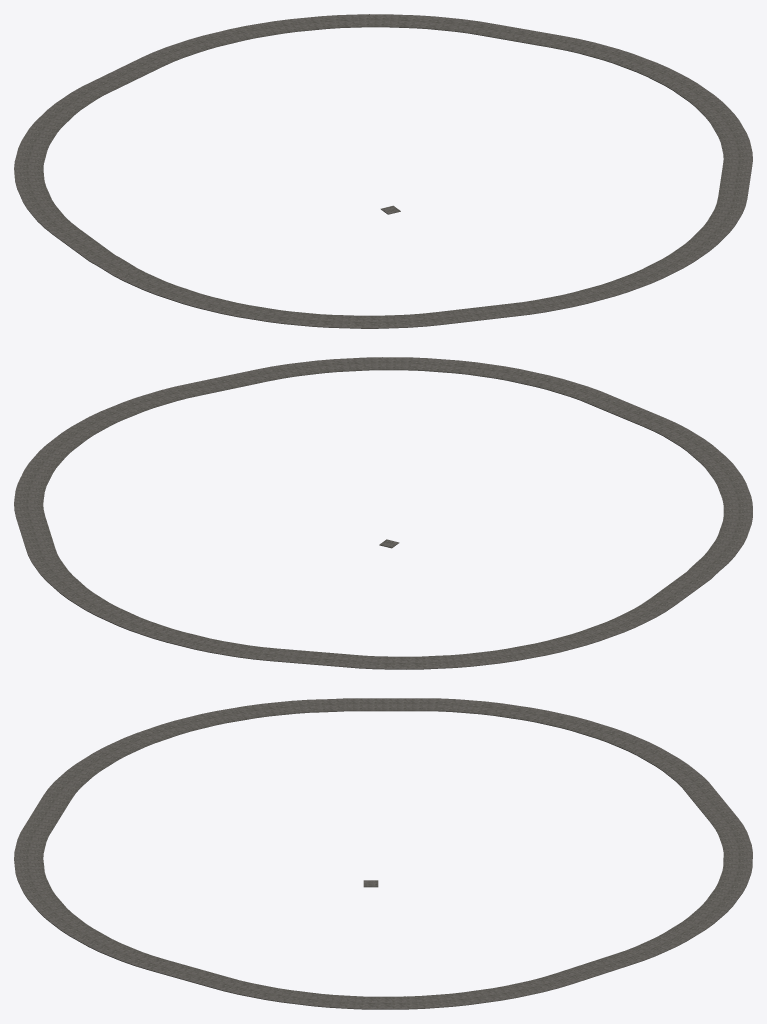
File: race_track.glb
3 renders of one model, top to bottom at view 1: azimuth 30°, elevation 25°; view 2: azimuth 150°, elevation 25°; view 3: azimuth 270°, elevation 25°, orthographic.
Parts seen in each view (by area): view 1: racetrack_model; view 2: racetrack_model; view 3: racetrack_model.
Boxes of the visible parts, left/top/right/bottom form: racetrack_model: left=14, top=14, right=752, bottom=328; racetrack_model: left=14, top=357, right=752, bottom=669; racetrack_model: left=14, top=698, right=752, bottom=1009.
Size of the model in its own units: 100 by 5.1 by 101.
Materials: 1 (1 with a texture image).
